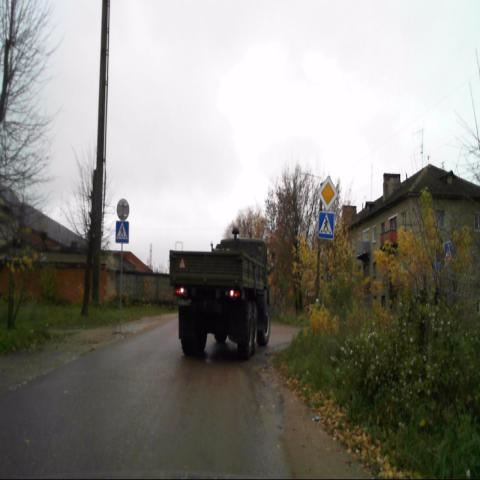2_1: (317, 175, 338, 212)
5_19_1: (318, 212, 334, 240), (115, 221, 129, 243)
